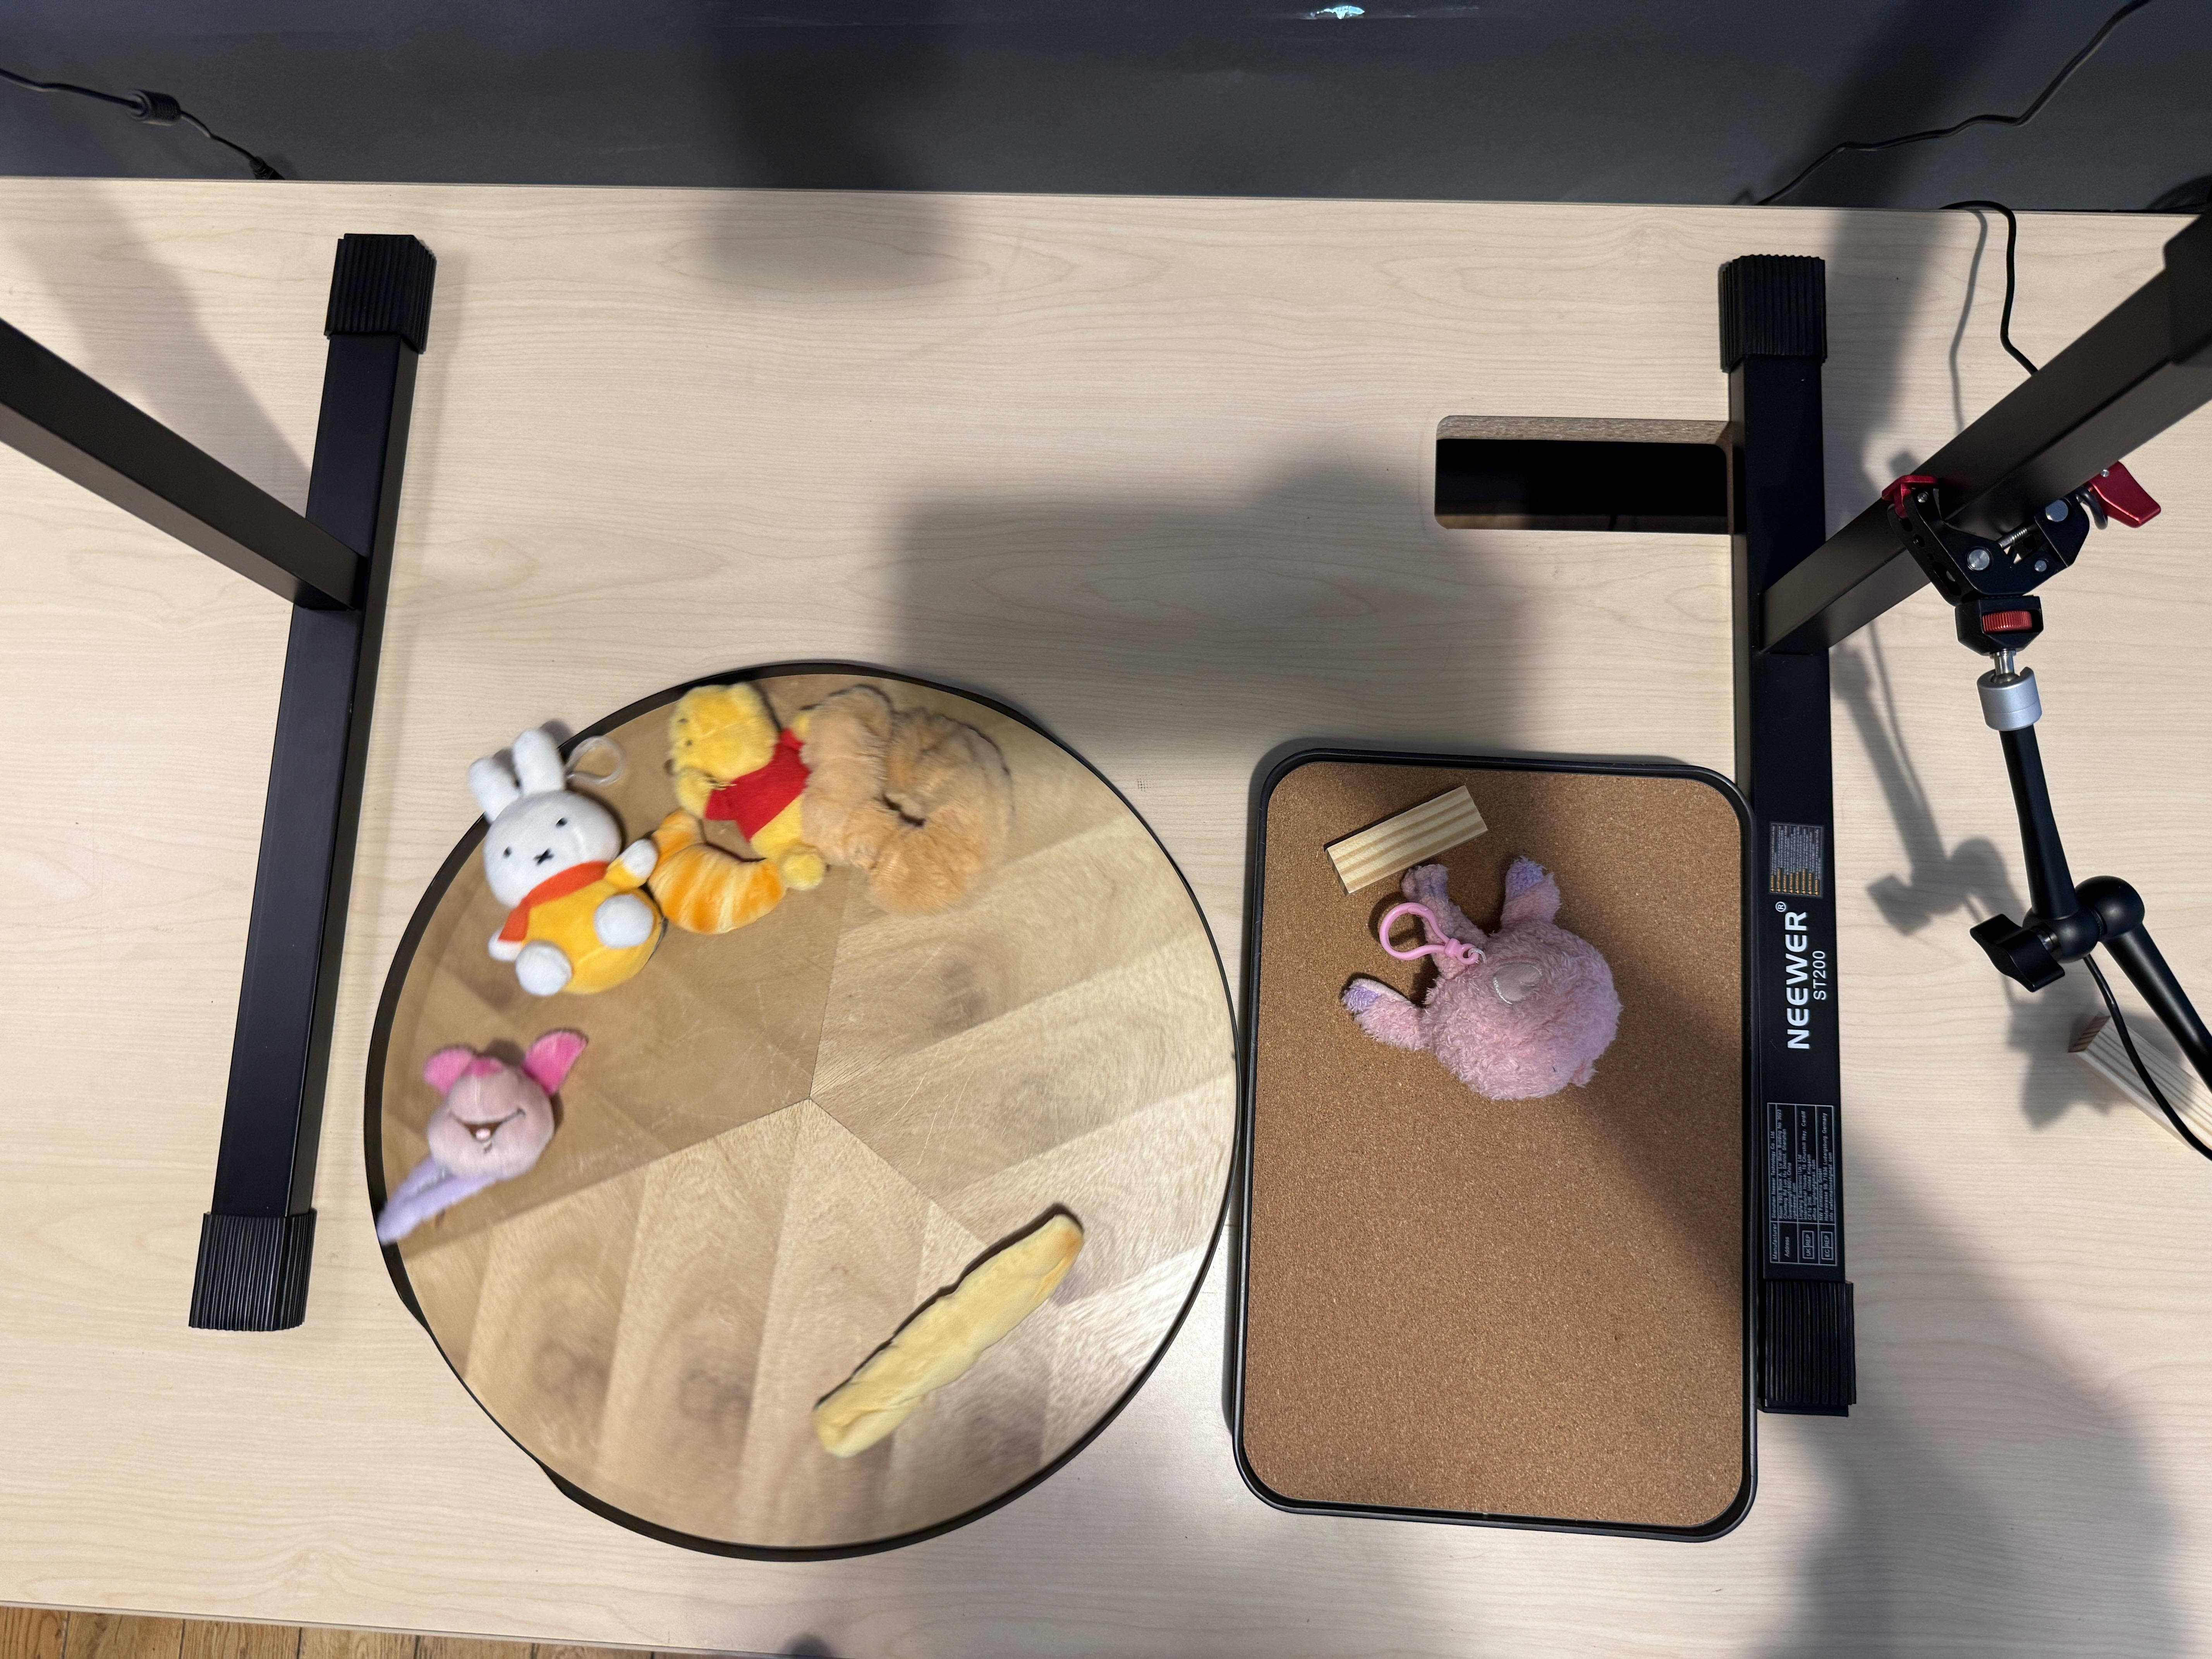block: (1329, 781, 1493, 892)
bread: (810, 1215, 1082, 1459), (644, 805, 798, 931)
doll: (669, 687, 1026, 915), (1350, 859, 1627, 1103), (470, 732, 665, 999), (383, 1028, 592, 1248)
